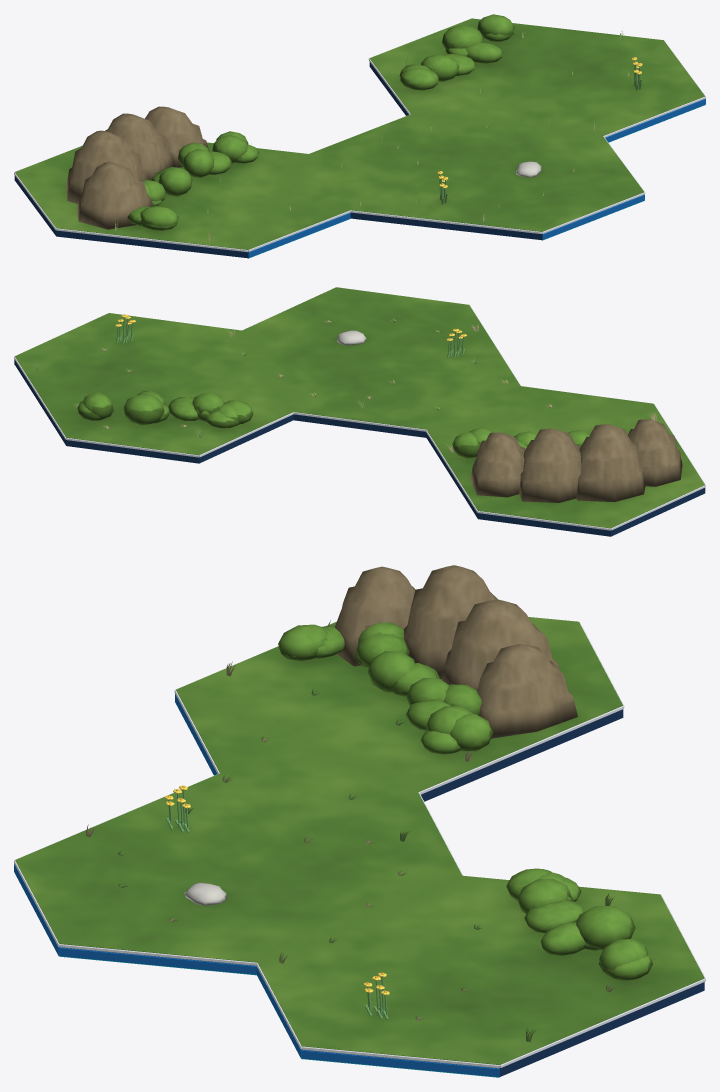
The model's file is field_cm08_01.glb.
The picture shows the model from 3 angles, top to bottom: view 1: azimuth 30°, elevation 25°; view 2: azimuth 150°, elevation 25°; view 3: azimuth 270°, elevation 25°; orthographic projection. The views are drawn at different scales.
Parts seen in each view (by area): view 1: field_cm08_01-rooted-meadow; view 2: field_cm08_01-rooted-meadow; view 3: field_cm08_01-rooted-meadow.
Boxes of the visible parts, x1,y1,x2,y2 form: field_cm08_01-rooted-meadow: (14,14,705,258); field_cm08_01-rooted-meadow: (14,287,705,536); field_cm08_01-rooted-meadow: (14,565,705,1077).
Bounding box in the file's own units: 19.17 × 1.9 × 12.12.
Materials: 1 (1 with a texture image).
